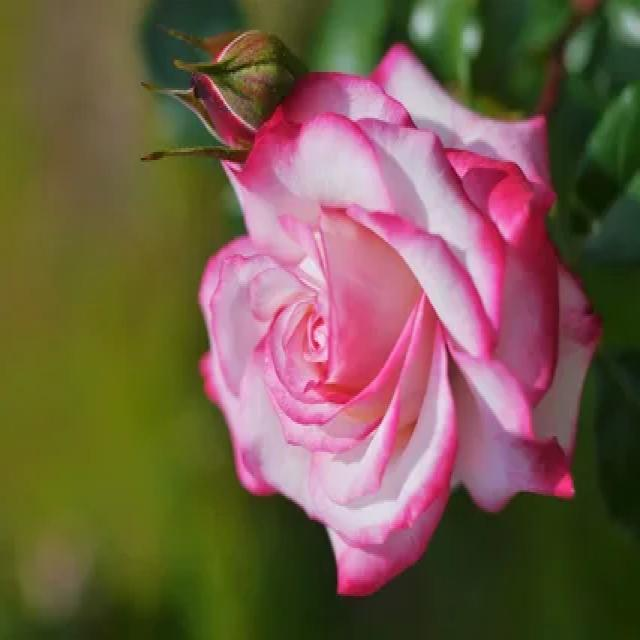rose: (185, 62, 598, 604)
